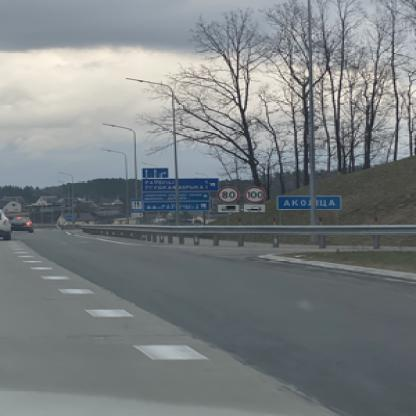speedlimit: (215, 185, 237, 203), (242, 185, 263, 202)
